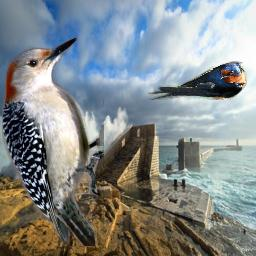Swallow: (148, 61, 247, 100)
Woodpecker: (2, 37, 104, 246)
